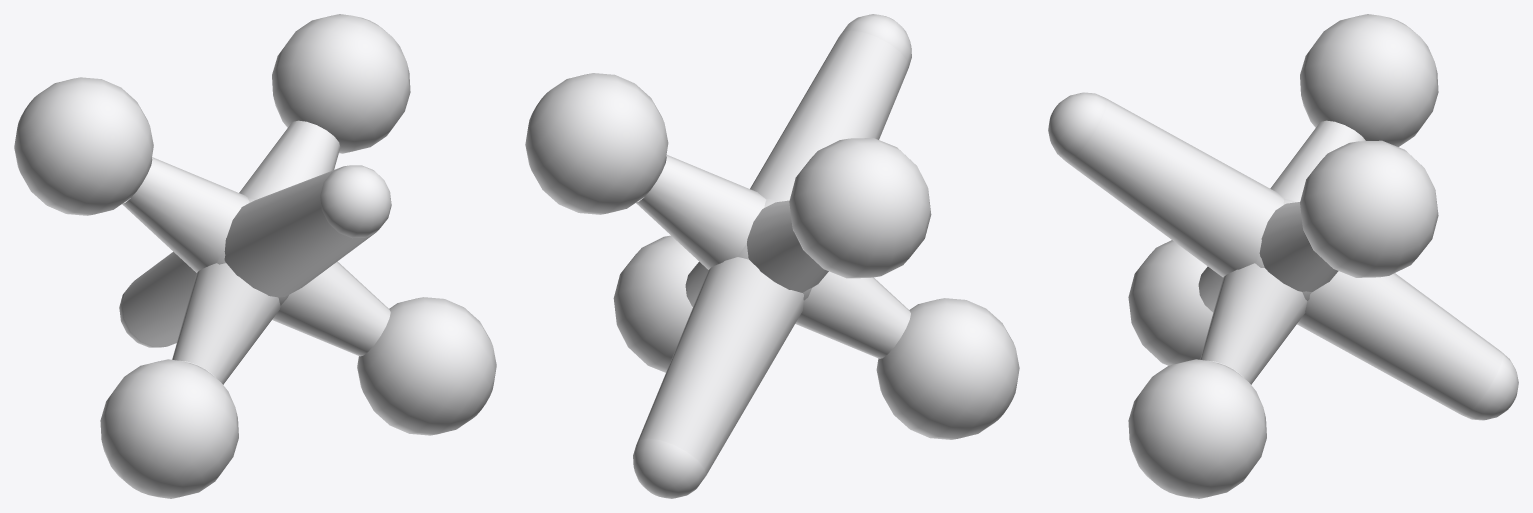
The model's file is spikes.glb.
The picture shows the model from 3 angles, left to right: view 1: azimuth 30°, elevation 25°; view 2: azimuth 150°, elevation 25°; view 3: azimuth 270°, elevation 25°; orthographic projection. The views are drawn at different scales.
Parts seen in each view (by area): view 1: Mesh0; view 2: Mesh0; view 3: Mesh0.
Part boxes in pixels (<box>): Mesh0: <box>14,14,496,498</box>; Mesh0: <box>525,14,1019,498</box>; Mesh0: <box>1048,14,1518,498</box>.
Size of the model in its own units: 0.9839 by 0.8645 by 1.06.
1 material, 1 textured.
